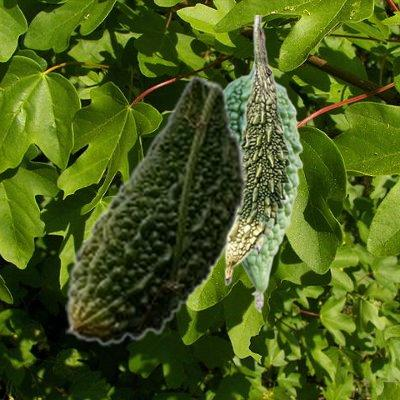ampalaya: (65, 75, 247, 345), (225, 63, 302, 312), (224, 15, 290, 285)
